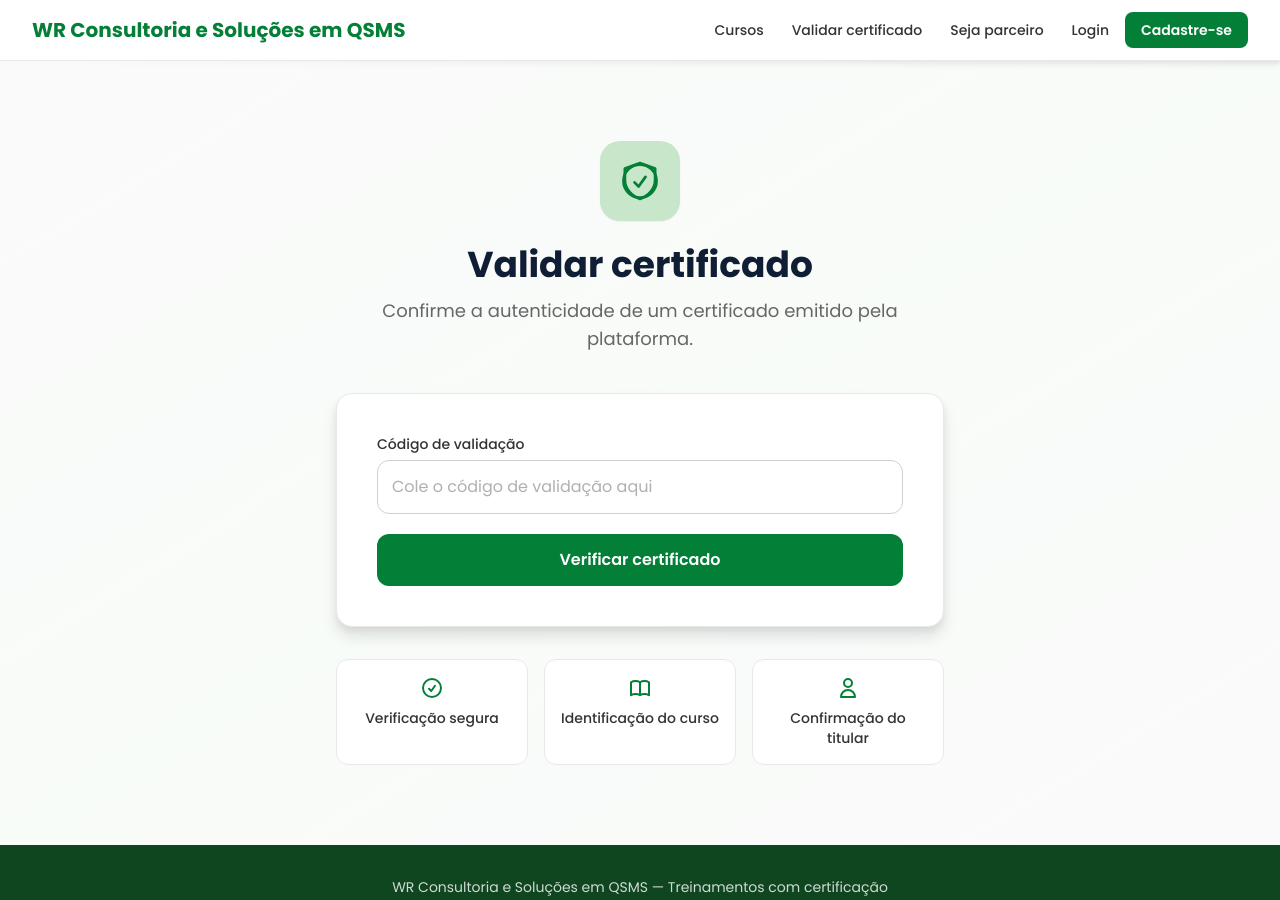
Scenario: ValidateCertificate › shows loading state during validation
The width and height of the screenshot is (1280, 900).
In the field with test id "validate-code-input": (640, 487) [377, 460, 903, 514], type "ABC-123"
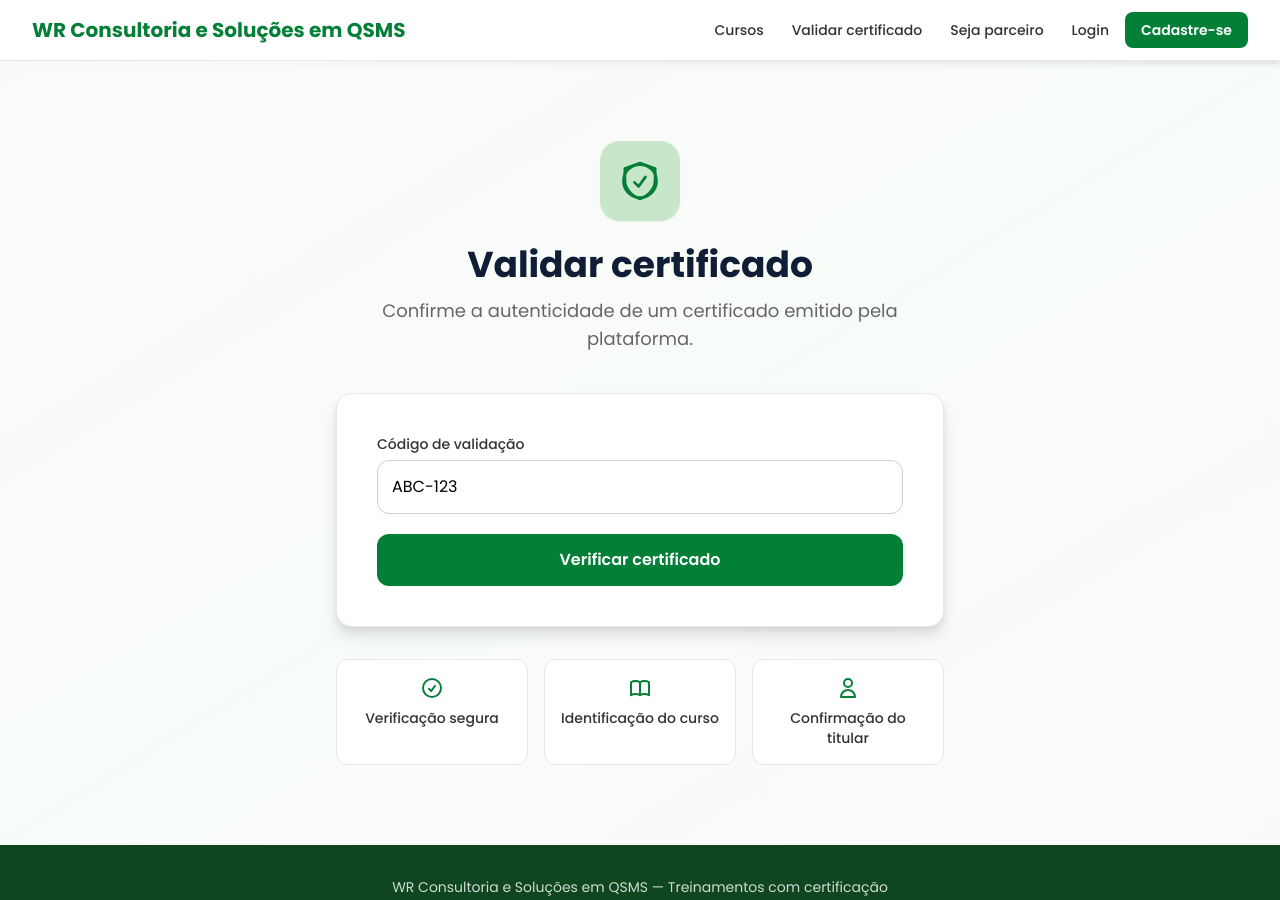
Submit the form, box [377, 434, 903, 586]
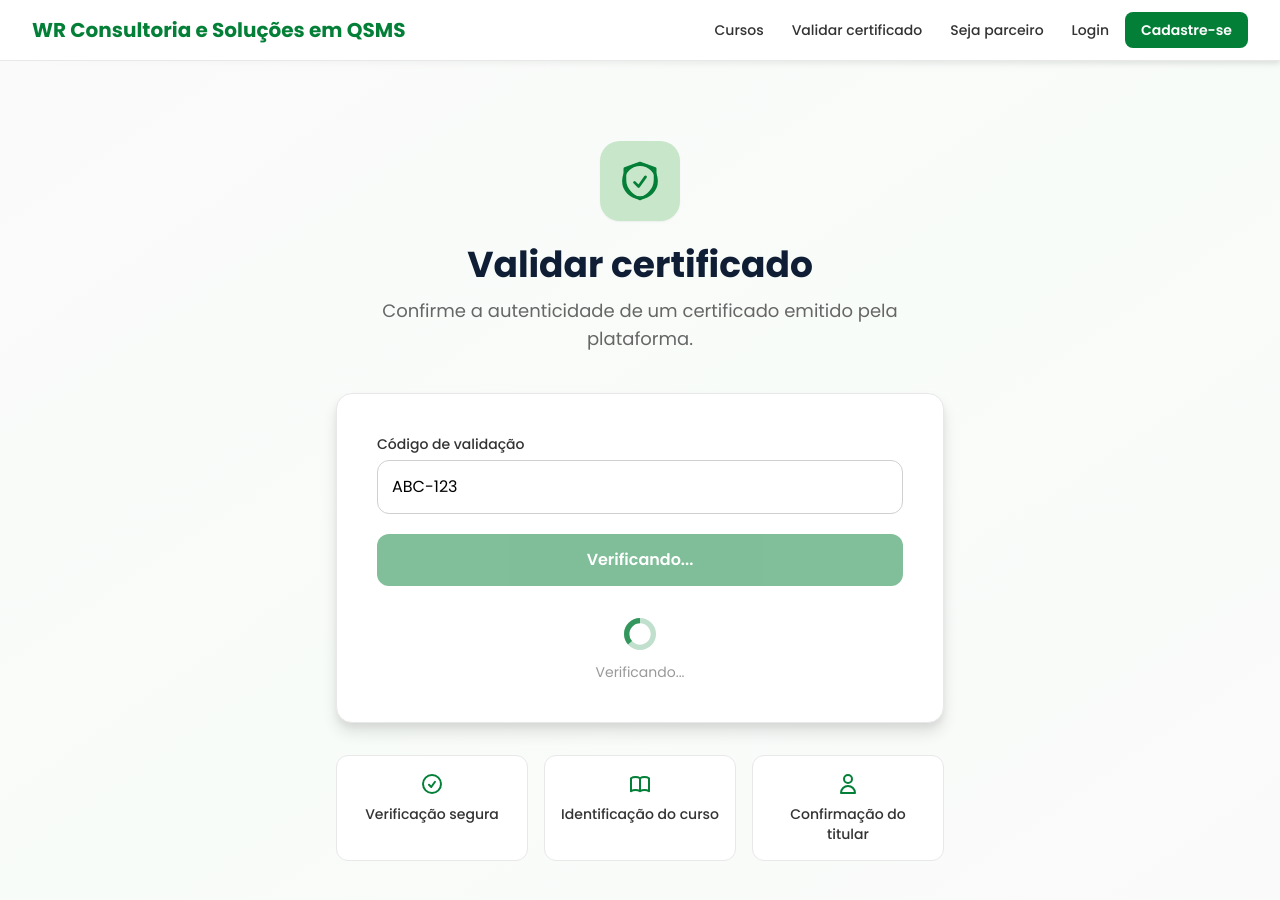
Check: the button with test id "validate-submit-btn" shows "Verificando", box [377, 534, 903, 586]
Check: the button with test id "validate-submit-btn" is disabled, box [377, 534, 903, 586]
